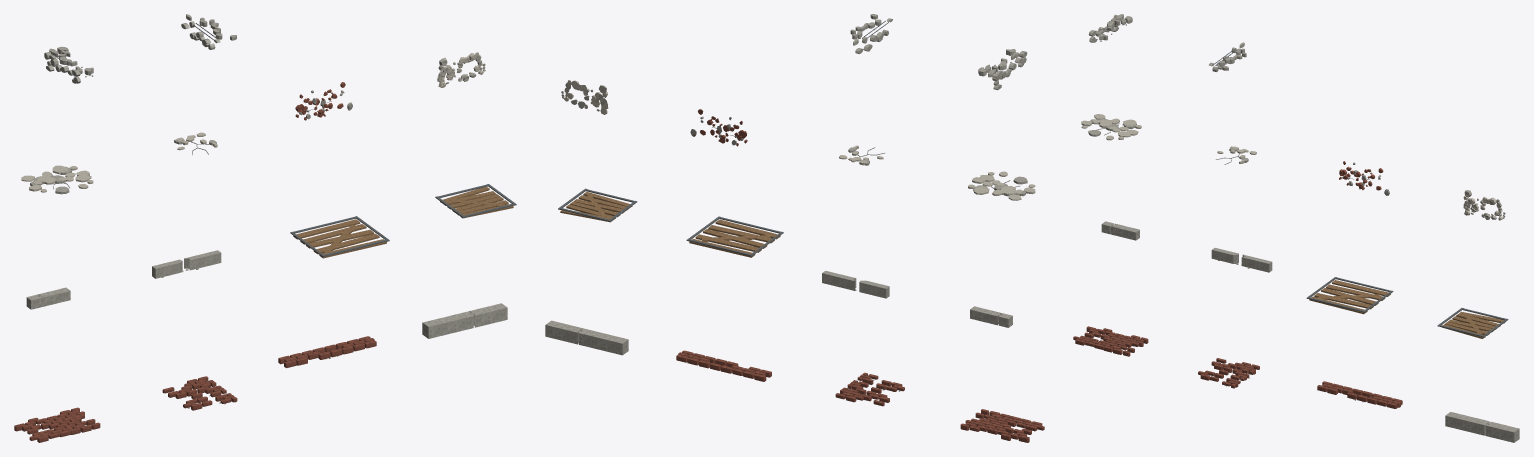
File: PROJECT_Z_DamageOverlayKit.glb
The picture shows the model from 3 angles, left to right: view 1: azimuth 30°, elevation 25°; view 2: azimuth 150°, elevation 25°; view 3: azimuth 330°, elevation 25°; orthographic projection. The views are drawn at different scales.
Parts seen in each view (by area): view 1: RENDER_Masonry_BrokenFacing_140x095_ChippedBrickFacing, RENDER_Masonry_BreachEdge_095x125_ChippedBrickFacing, RENDER_Concrete_BrokenWindowSill_150_CrackedSillSections, RENDER_Concrete_CrackedCap_180_LeftFracture, RENDER_Plaster_Delamination_145x120_PlasterFlakes, RENDER_Concrete_CrackedCap_180_RightFracture, RENDER_BoardedWindow_Cross_150x130_AnchorStrips, RENDER_Masonry_FracturedLintel_210_Course_3, RENDER_Rubble_BrickScatter_130_BrickFragments, RENDER_Rubble_PlasterScatter_105_PlasterPieces, RENDER_BoardedWindow_Slats_120x110_AnchorStrips; view 2: RENDER_Masonry_BrokenFacing_140x095_ChippedBrickFacing, RENDER_Masonry_BreachEdge_095x125_ChippedBrickFacing, RENDER_Concrete_CrackedCap_180_LeftFracture, RENDER_Concrete_BrokenWindowSill_150_CrackedSillSections, RENDER_Plaster_Delamination_145x120_PlasterFlakes, RENDER_Masonry_FracturedLintel_210_Course_1, RENDER_Concrete_CrackedCap_180_RightFracture, RENDER_BoardedWindow_Cross_150x130_AnchorStrips, RENDER_Rubble_PlasterScatter_105_PlasterPieces; view 3: RENDER_Masonry_BrokenFacing_140x095_ChippedBrickFacing, RENDER_Masonry_BreachEdge_095x125_ChippedBrickFacing, RENDER_Concrete_BrokenWindowSill_150_CrackedSillSections, RENDER_Plaster_Delamination_145x120_PlasterFlakes, RENDER_Concrete_CrackedCap_180_LeftFracture, RENDER_Concrete_CrackedCap_180_RightFracture, RENDER_BoardedWindow_Cross_150x130_AnchorStrips, RENDER_Masonry_FracturedLintel_210_Course_3.
Part boxes in pixels (bbox=[...]): RENDER_Masonry_BrokenFacing_140x095_ChippedBrickFacing: bbox=[14, 407, 100, 442]; RENDER_Masonry_BreachEdge_095x125_ChippedBrickFacing: bbox=[162, 376, 237, 410]; RENDER_Concrete_BrokenWindowSill_150_CrackedSillSections: bbox=[152, 250, 221, 278]; RENDER_Concrete_CrackedCap_180_LeftFracture: bbox=[422, 311, 473, 338]; RENDER_Plaster_Delamination_145x120_PlasterFlakes: bbox=[21, 165, 93, 192]; RENDER_Concrete_CrackedCap_180_RightFracture: bbox=[468, 303, 507, 327]; RENDER_BoardedWindow_Cross_150x130_AnchorStrips: bbox=[290, 216, 389, 257]; RENDER_Masonry_FracturedLintel_210_Course_3: bbox=[284, 340, 376, 368]; RENDER_Rubble_BrickScatter_130_BrickFragments: bbox=[295, 82, 348, 120]; RENDER_Rubble_PlasterScatter_105_PlasterPieces: bbox=[437, 52, 485, 87]; RENDER_BoardedWindow_Slats_120x110_AnchorStrips: bbox=[435, 184, 516, 217]; RENDER_Masonry_BrokenFacing_140x095_ChippedBrickFacing: bbox=[960, 409, 1044, 442]; RENDER_Masonry_BreachEdge_095x125_ChippedBrickFacing: bbox=[835, 372, 904, 406]; RENDER_Concrete_CrackedCap_180_LeftFracture: bbox=[578, 328, 628, 355]; RENDER_Concrete_BrokenWindowSill_150_CrackedSillSections: bbox=[822, 270, 889, 298]; RENDER_Plaster_Delamination_145x120_PlasterFlakes: bbox=[968, 171, 1035, 200]; RENDER_Masonry_FracturedLintel_210_Course_1: bbox=[676, 354, 766, 381]; RENDER_Concrete_CrackedCap_180_RightFracture: bbox=[545, 320, 583, 344]; RENDER_BoardedWindow_Cross_150x130_AnchorStrips: bbox=[686, 216, 783, 256]; RENDER_Rubble_PlasterScatter_105_PlasterPieces: bbox=[562, 80, 608, 114]; RENDER_Masonry_BrokenFacing_140x095_ChippedBrickFacing: bbox=[1073, 326, 1148, 356]; RENDER_Masonry_BreachEdge_095x125_ChippedBrickFacing: bbox=[1198, 358, 1259, 388]; RENDER_Concrete_BrokenWindowSill_150_CrackedSillSections: bbox=[1211, 248, 1272, 272]; RENDER_Plaster_Delamination_145x120_PlasterFlakes: bbox=[1081, 114, 1141, 140]; RENDER_Concrete_CrackedCap_180_LeftFracture: bbox=[1445, 412, 1490, 435]; RENDER_Concrete_CrackedCap_180_RightFracture: bbox=[1485, 421, 1519, 442]; RENDER_BoardedWindow_Cross_150x130_AnchorStrips: bbox=[1306, 277, 1393, 312]; RENDER_Masonry_FracturedLintel_210_Course_3: bbox=[1317, 385, 1397, 408].
Size of the model in its own units: 11.17 by 8.27 by 1.49.
8 materials, 5 textured.
